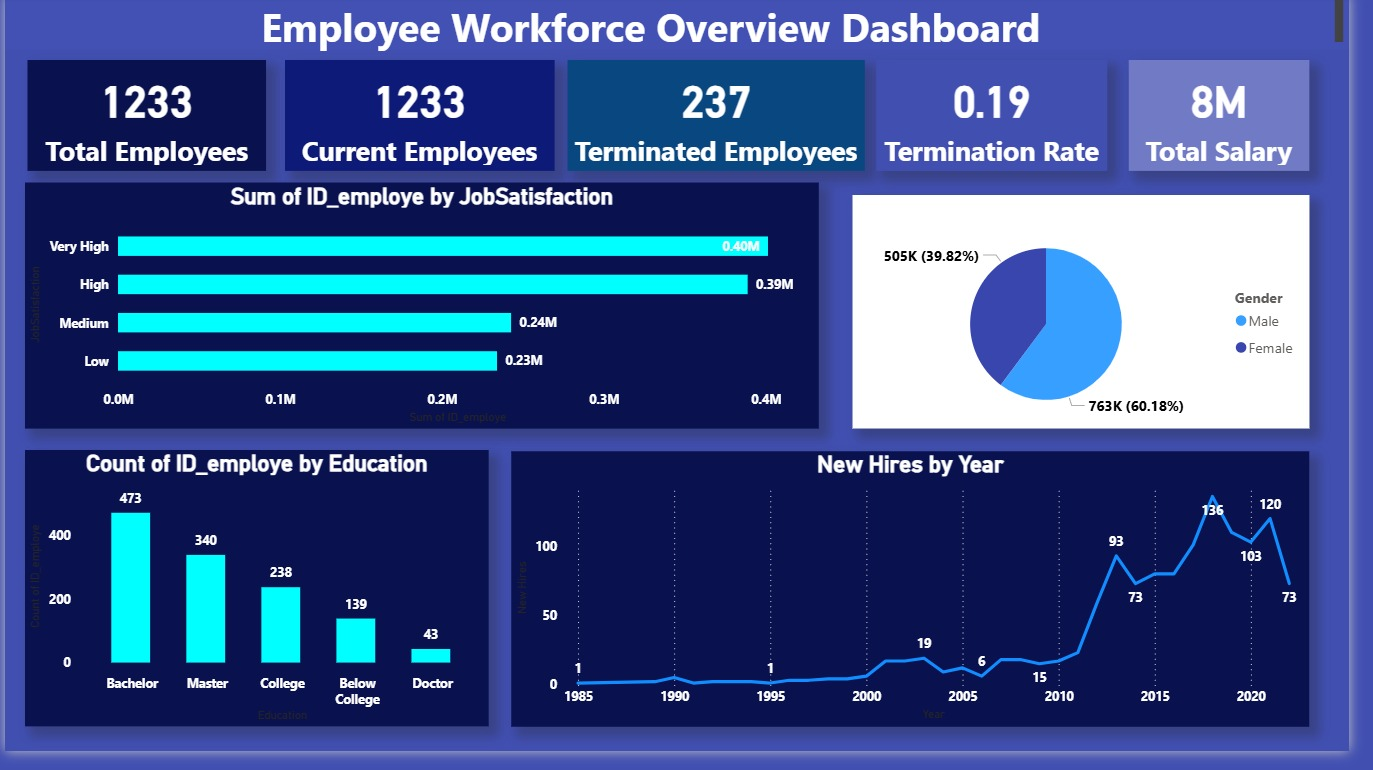

Layout of this report page (visuals, bound fields, positions):
{"tool":"powerbi","page":{"name":"Page 1","canvas":[1280,720],"ordinal":0},"visuals":[{"type":"card","fields":{"Values":["Dataset.Total Employees"]},"box":[21.8,61.7,227.6,105.3],"z":0},{"type":"card","fields":{"Values":["Dataset.Current Employees"]},"box":[266.3,61.7,256.6,105.3],"z":1000},{"type":"card","fields":{"Values":["Dataset.Terminated Employees"]},"box":[536.3,61.7,283.3,105.3],"z":2000},{"type":"card","fields":{"Values":["Dataset.Termination Rate"]},"box":[829.2,61.7,220.3,105.3],"z":3000},{"type":"card","fields":{"Values":["Dataset.Total Salary"]},"box":[1070.1,61.7,171.9,105.3],"z":4000},{"type":"pieChart","fields":{"Category":["Dataset.Gender"],"Y":["Sum(Dataset.ID_employe)"]},"box":[806.9,190.7,435,222.3],"z":5000},{"type":"clusteredColumnChart","fields":{"Category":["Dataset.Education"],"Y":["CountNonNull(Dataset.ID_employe)"]},"box":[19.2,433.6,441.9,263.5],"z":6000},{"type":"clusteredBarChart","fields":{"Category":["Dataset.JobSatisfaction"],"Y":["Sum(Dataset.ID_employe)"]},"box":[19.2,178.4,756.1,234.6],"z":7000},{"type":"lineChart","fields":{"Category":["Dataset.DateStart.Variation.Date Hierarchy.Year","Dataset.DateStart.Variation.Date Hierarchy.Quarter"],"Y":["Dataset.New Hires"]},"box":[481.6,435,760.2,262.1],"z":9000},{"type":"shape","box":[0,6.1,1279.5,46],"z":9001},{"type":"textbox","box":[239.7,0,1039.8,61.7],"z":9002}]}

Visuals, with their boxes in screenshot pixels (x1, y1, x2, y2), scaled from the page's 1280x720 canvas onto the 1373x770 screenshot:
card - Dataset.Total Employees: <box>23,66,268,179</box>
card - Dataset.Current Employees: <box>286,66,561,179</box>
card - Dataset.Terminated Employees: <box>575,66,879,179</box>
card - Dataset.Termination Rate: <box>889,66,1126,179</box>
card - Dataset.Total Salary: <box>1148,66,1332,179</box>
pieChart - Dataset.Gender x Sum(Dataset.ID_employe): <box>866,204,1332,442</box>
clusteredColumnChart - Dataset.Education x CountNonNull(Dataset.ID_employe): <box>21,464,495,746</box>
clusteredBarChart - Dataset.JobSatisfaction x Sum(Dataset.ID_employe): <box>21,191,832,442</box>
lineChart - Dataset.DateStart.Variation.Date Hierarchy.Year x Dataset.DateStart.Variation.Date Hierarchy.Quarter: <box>517,465,1332,746</box>
shape: <box>0,7,1372,56</box>
textbox: <box>257,0,1372,66</box>
